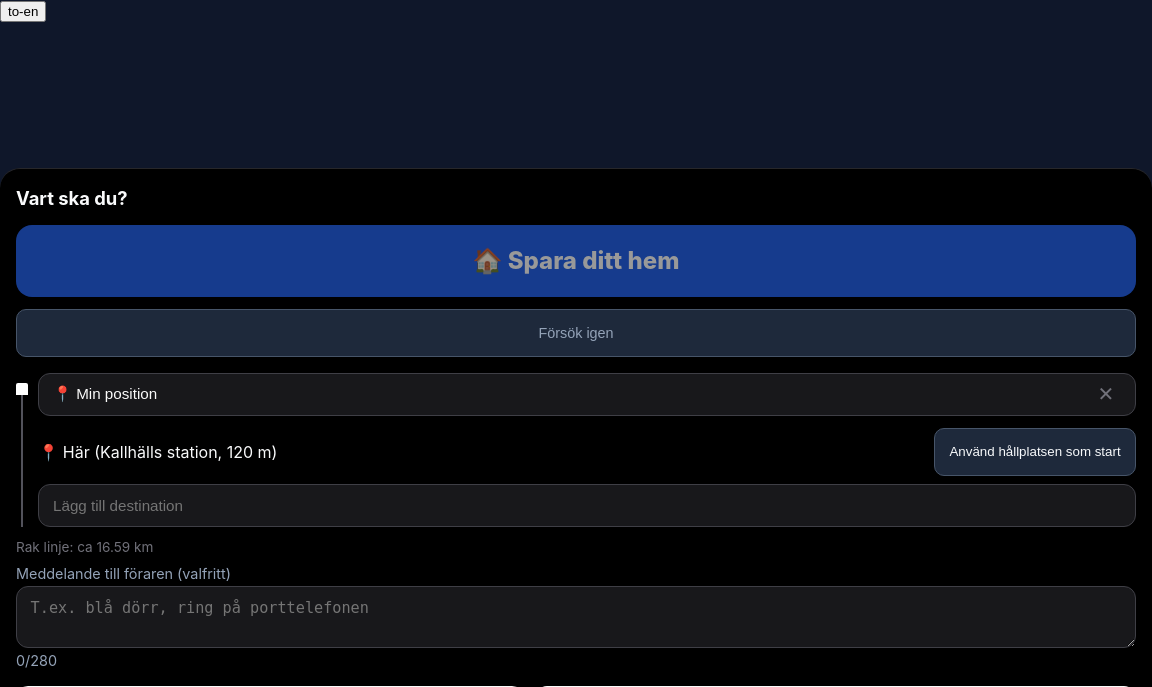
Scenario: BookingPage places › GPS: pickup defaults to "Min position" with a nearest-stop hint, one tap uses the stop
expect the dropdown named "Startadress" holds "📍 Min position": met, box [38,373,1136,416]
expect the text "📍 Här (Kallhälls station, 120 m)" is shown: met, box [38,442,277,462]
Step 1. Click the button "Använd hållplatsen som start" → {"x": 1035, "y": 452}, box [934,428,1136,476]
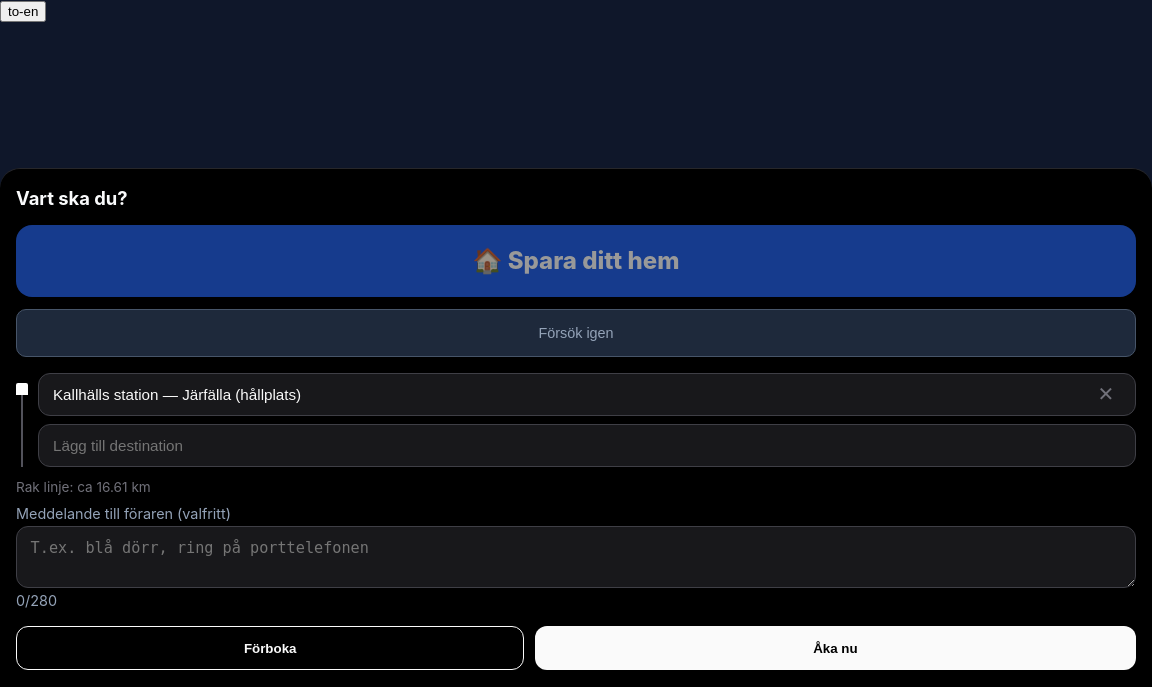
expect the dropdown named "Startadress" holds "Kallhälls station — Järfälla (hållplats)": met, box [38,373,1136,416]
expect the text "Här (" is gone: met
